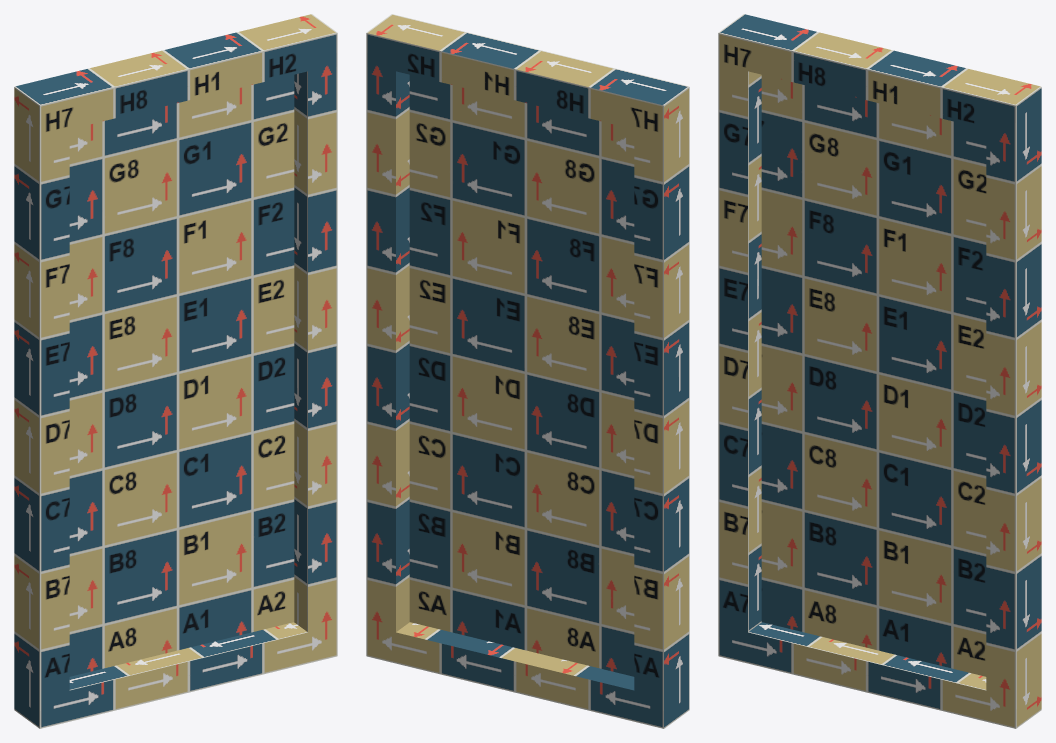
Rendered from WINDOW_Tall.fbx.
The picture shows the model from 3 angles, left to right: view 1: azimuth 30°, elevation 25°; view 2: azimuth 150°, elevation 25°; view 3: azimuth 330°, elevation 25°; orthographic projection.
Parts seen in each view (by area): view 1: WINDOW_Tall; view 2: WINDOW_Tall; view 3: WINDOW_Tall.
Part boxes in pixels (x1,y1,x2,y2): WINDOW_Tall: (14, 14, 337, 728); WINDOW_Tall: (366, 14, 689, 728); WINDOW_Tall: (718, 14, 1041, 728).
Bounding box in the file's own units: 100 × 200 × 15.
Materials: 2 (2 with a texture image).
